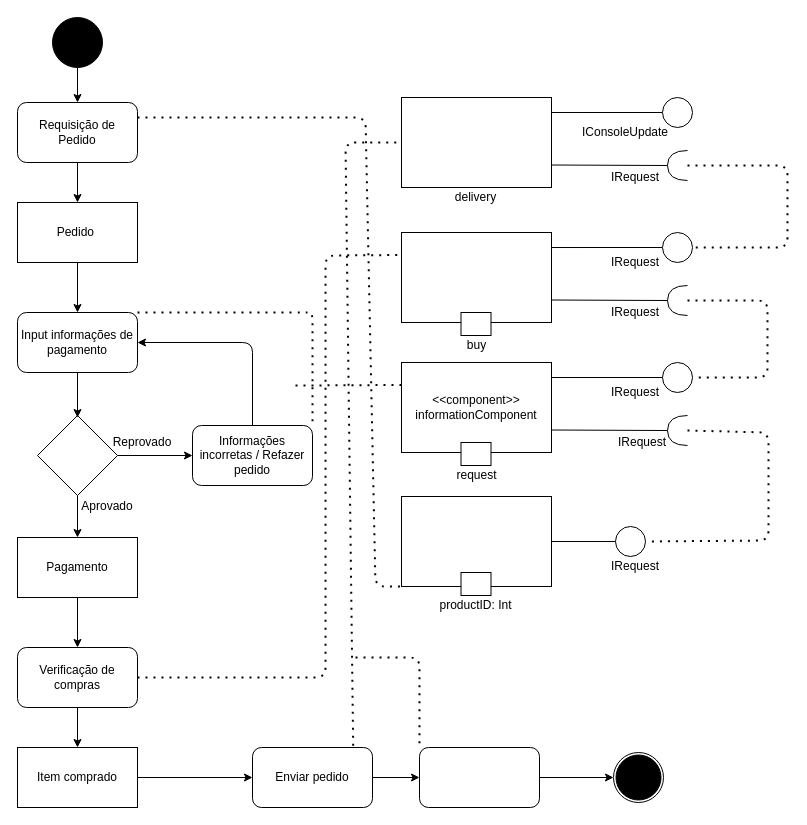
The diagram is 807 pixels wide and 825 high, and some of its shapes have lost their labels. The box of each missing label's shape, as (x1, y1, x2, y2) in pixels:
<<component>> BuyComponent: (400, 232, 552, 322)
<<component>> DeliveryComponent: (400, 96, 552, 188)
<<component>> RequestComponent: (400, 496, 552, 586)
Entrega pedido: (418, 746, 540, 808)
